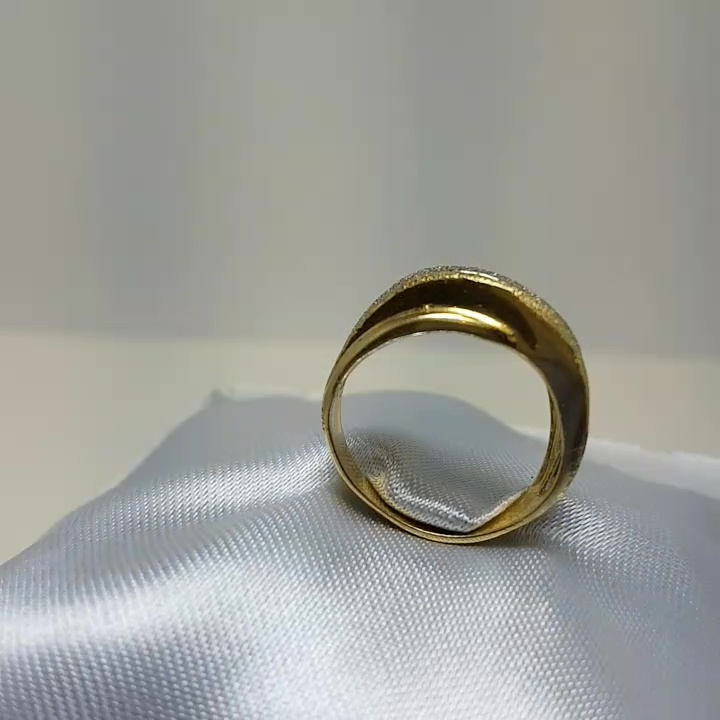Ring 5: (291, 247, 613, 587)
